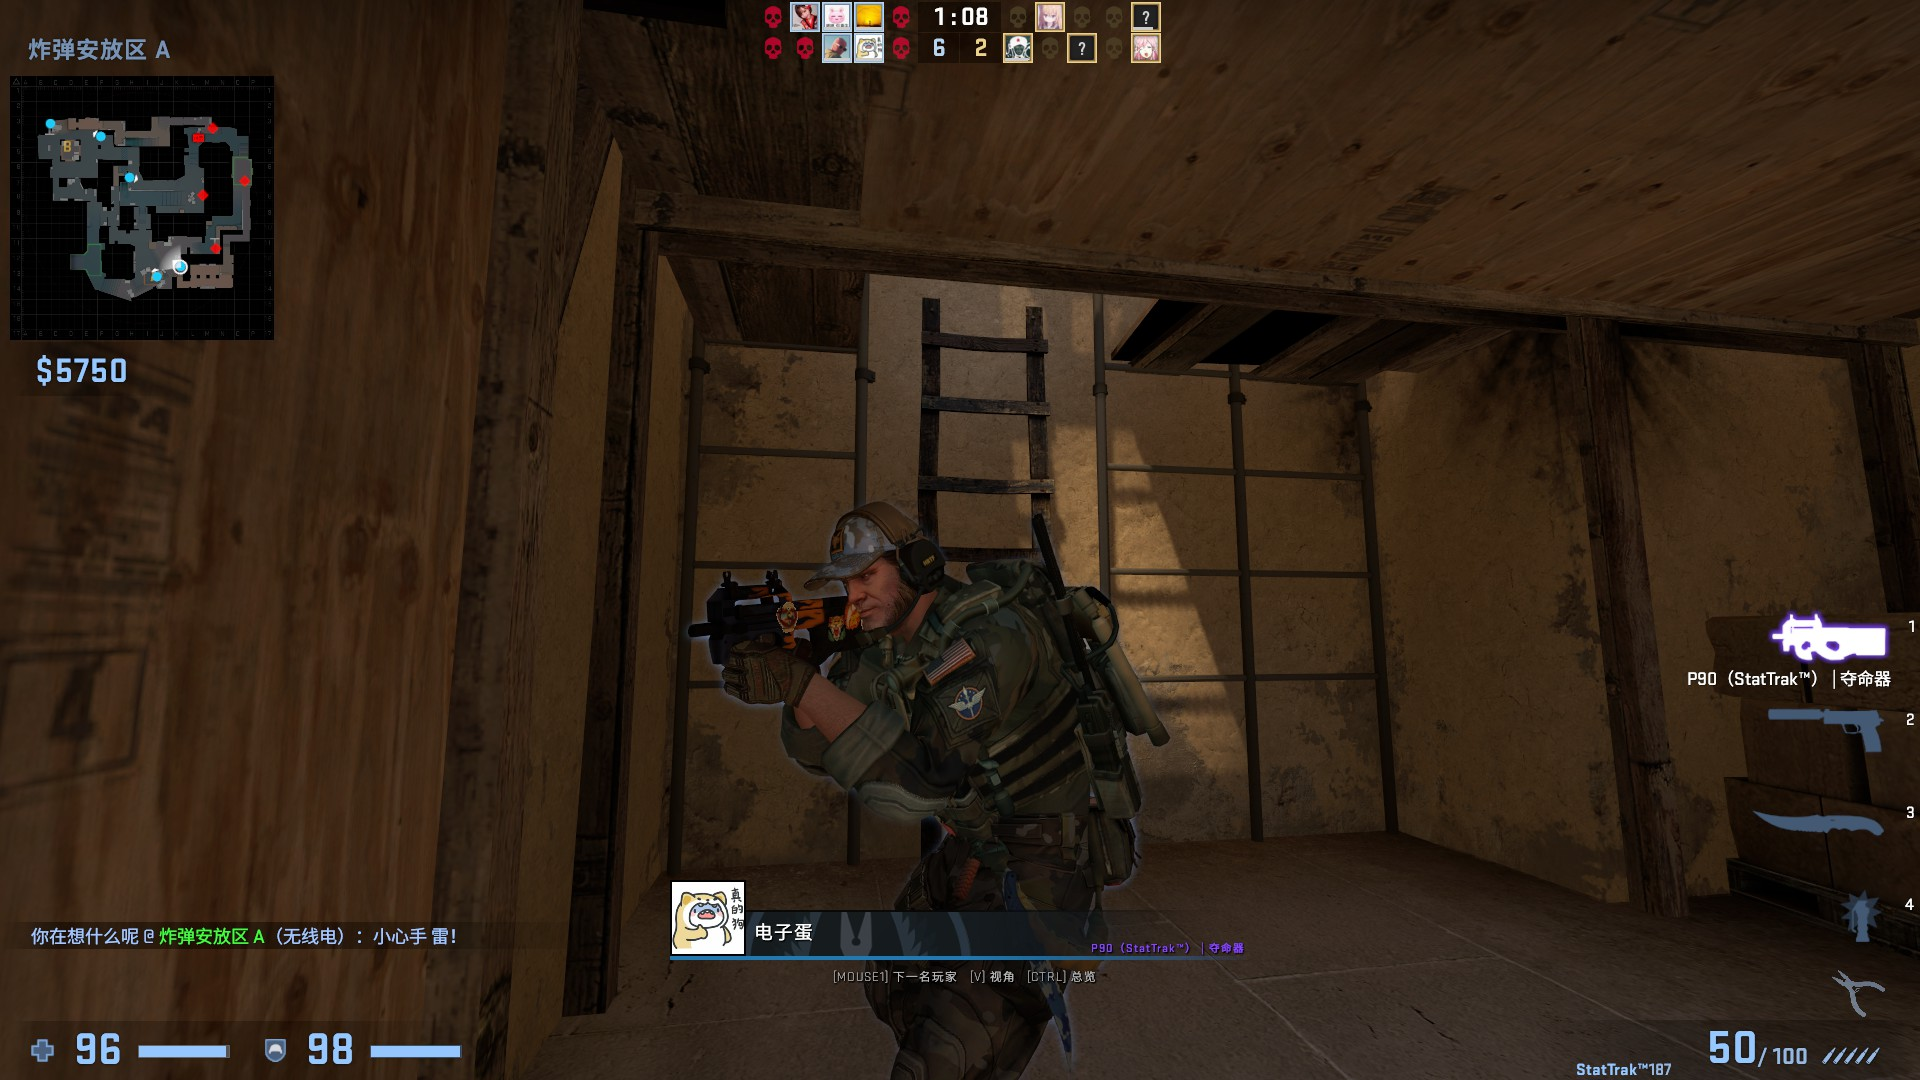head: (809, 491, 946, 631)
